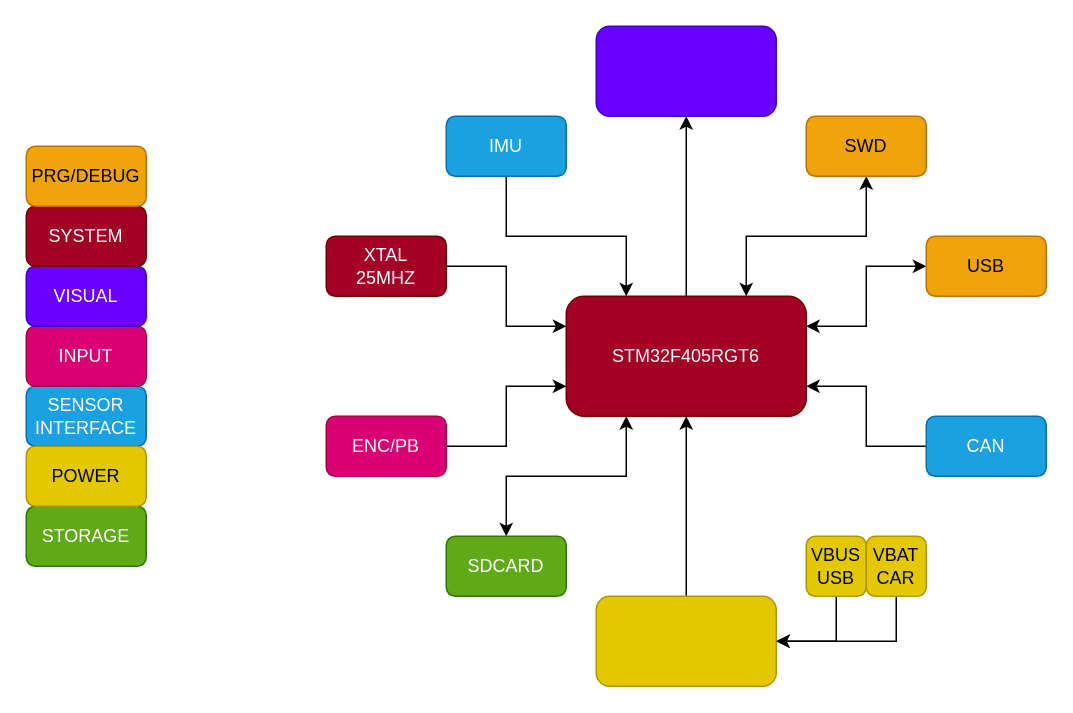
The diagram is 1073 pixels wide and 713 high, and some of its shapes have lost their labels. Each missing label, with the centre of its shape:
"BUCK" belongs at pixel 685 640.
"TFT (250x250) Round 1.28''" belongs at pixel 685 70.
